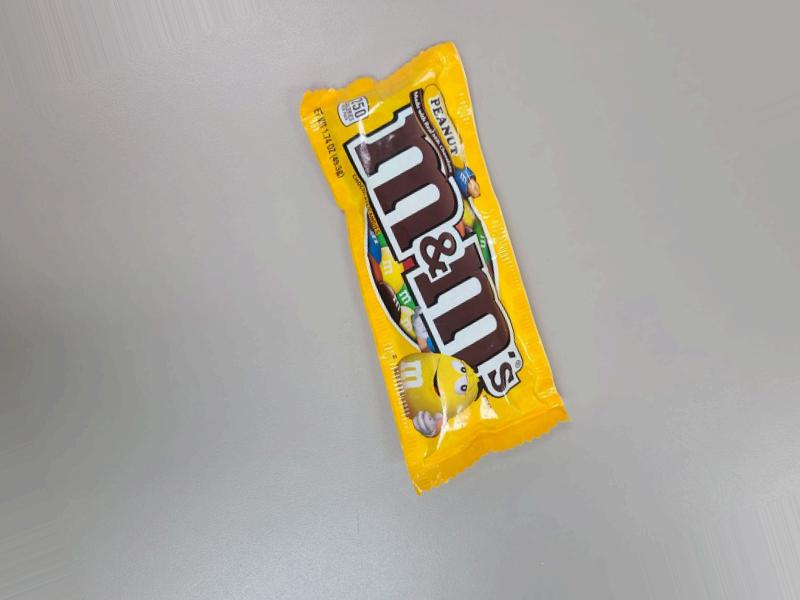m&m: (381, 38, 584, 484)
